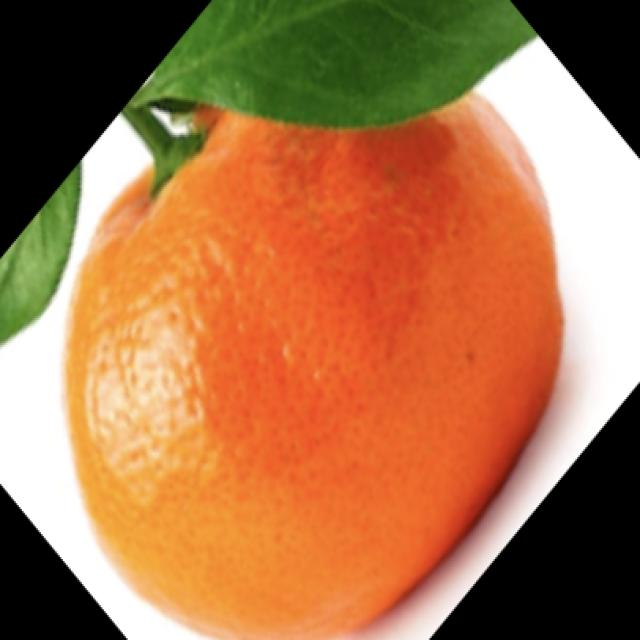orange: (69, 42, 574, 640)
